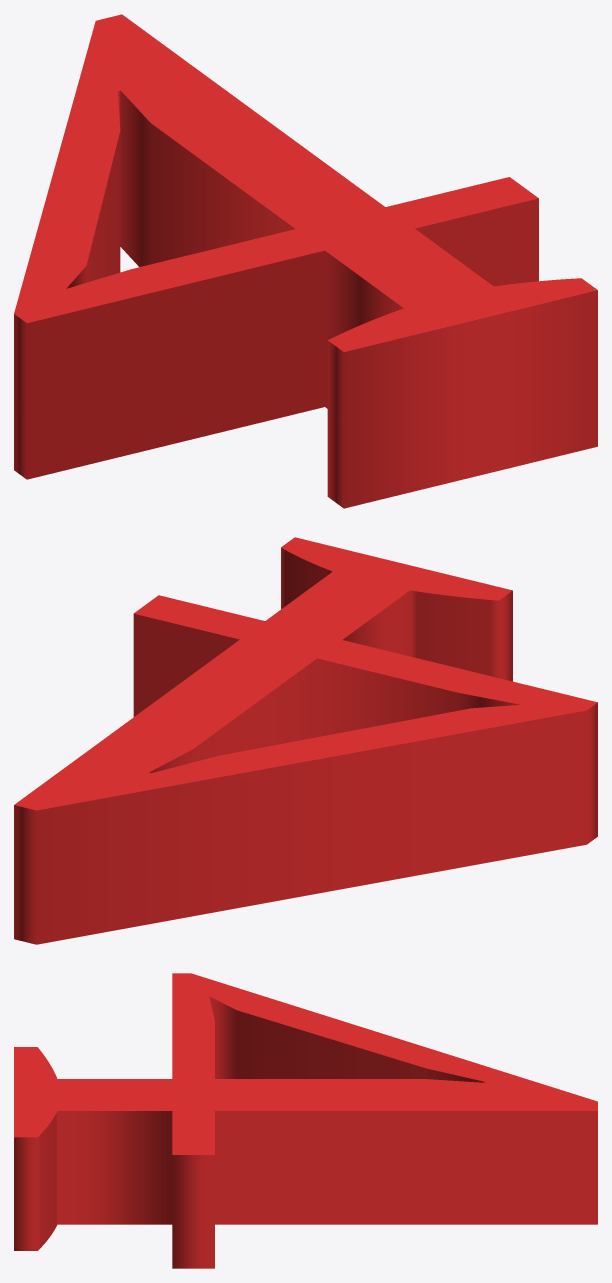
The model's file is four.glb.
The picture shows the model from 3 angles, top to bottom: view 1: azimuth 30°, elevation 25°; view 2: azimuth 150°, elevation 25°; view 3: azimuth 270°, elevation 25°; orthographic projection. The views are drawn at different scales.
Visible parts, largest first — view 1: Текст; view 2: Текст; view 3: Текст.
Part boxes in pixels (x1,y1,x2,y2): Текст: (14,14,597,508); Текст: (14,537,597,944); Текст: (14,973,597,1268).
Bounding box in the file's own units: 0.411 × 0.12 × 0.5584.
